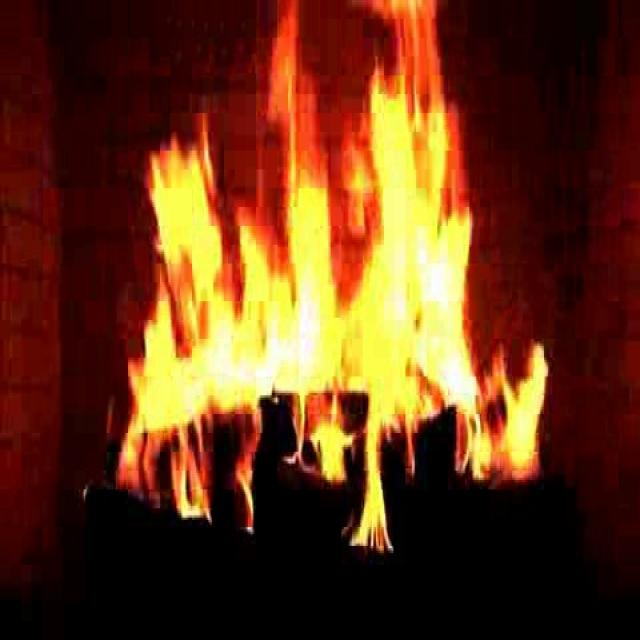fire: (121, 48, 535, 524)
